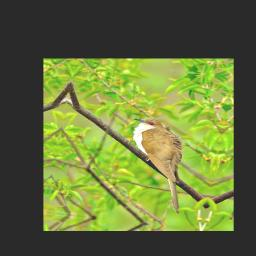Cuckoo: (115, 116, 200, 215)
